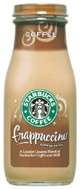grozi_73: (4, 2, 76, 185)
